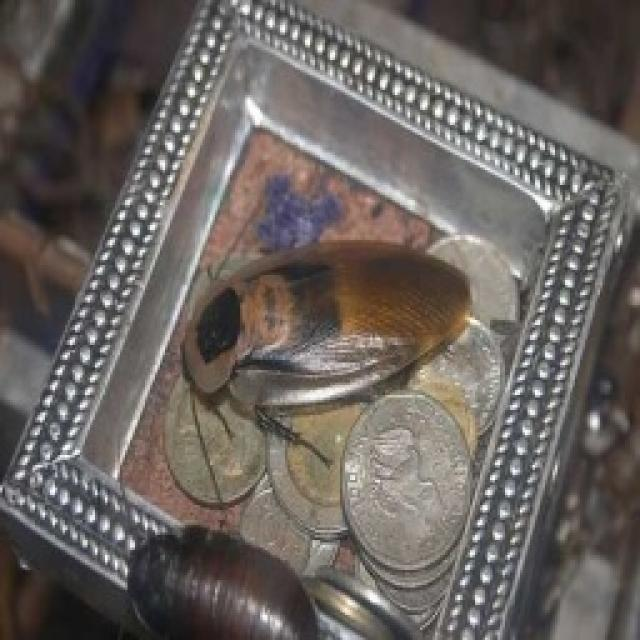cockroach: (165, 199, 486, 432)
